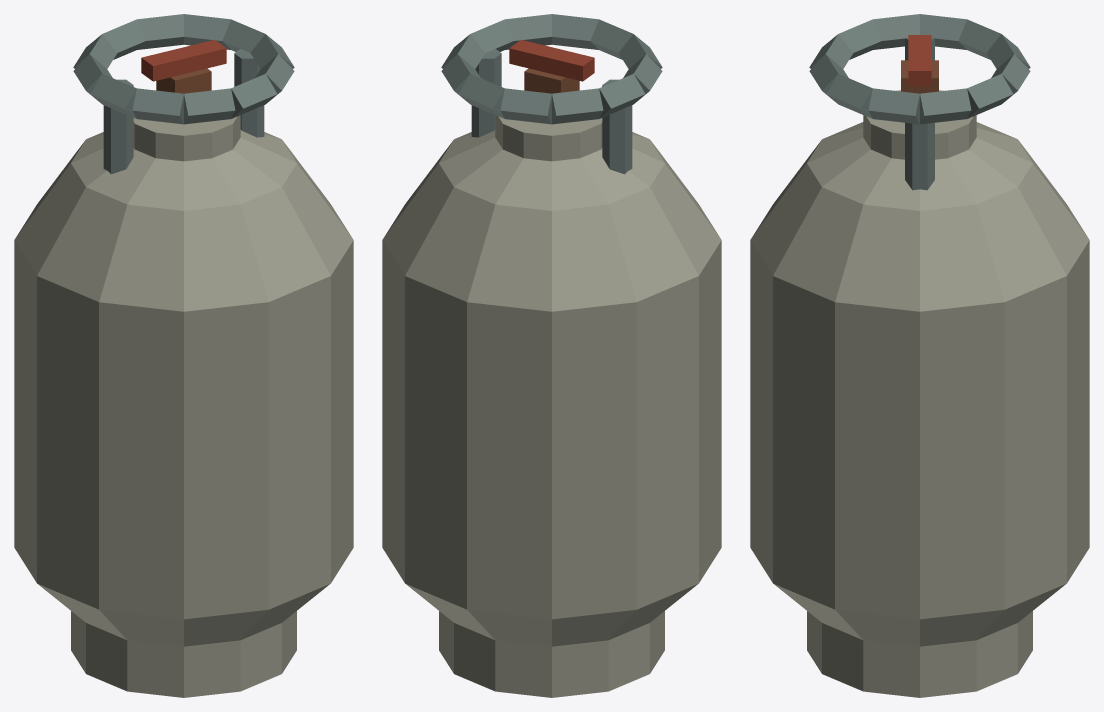
3 renders of one model, left to right at view 1: azimuth 30°, elevation 25°; view 2: azimuth 150°, elevation 25°; view 3: azimuth 270°, elevation 25°, orthographic.
Visible parts, largest first — view 1: a80; view 2: a80; view 3: a80.
Part boxes in pixels (bbox=[...]): a80: bbox=[14, 14, 353, 697]; a80: bbox=[382, 14, 721, 697]; a80: bbox=[750, 14, 1089, 697].
Size of the model in its own units: 0.36 by 0.699 by 0.36.
